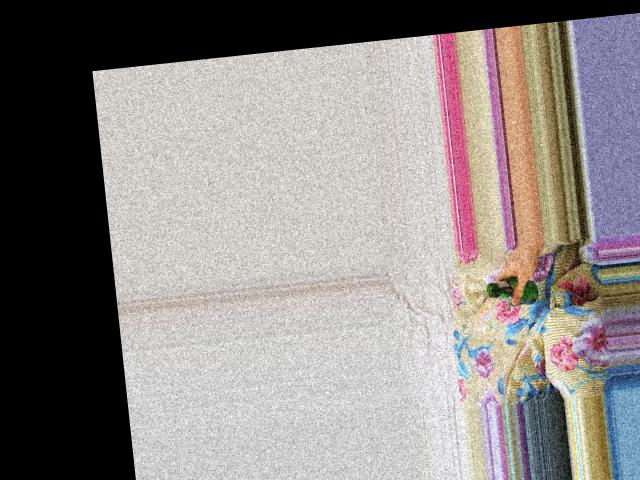beer: (486, 273, 539, 307)
